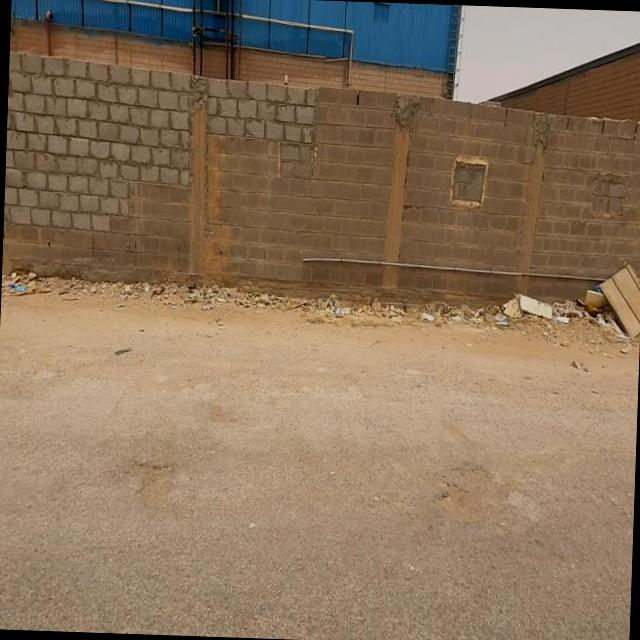debris: (447, 222, 570, 374), (521, 207, 640, 361), (162, 255, 261, 351), (390, 268, 490, 354), (294, 252, 368, 349), (0, 234, 67, 323)
